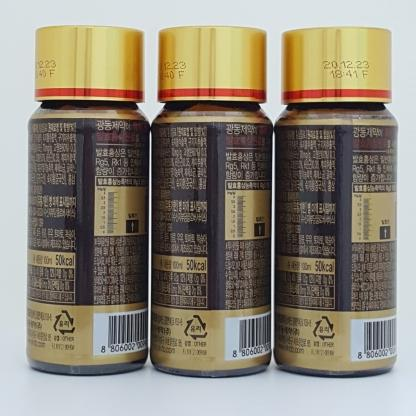-------100ml: (26, 25, 153, 376), (272, 27, 397, 377), (151, 26, 274, 378)
